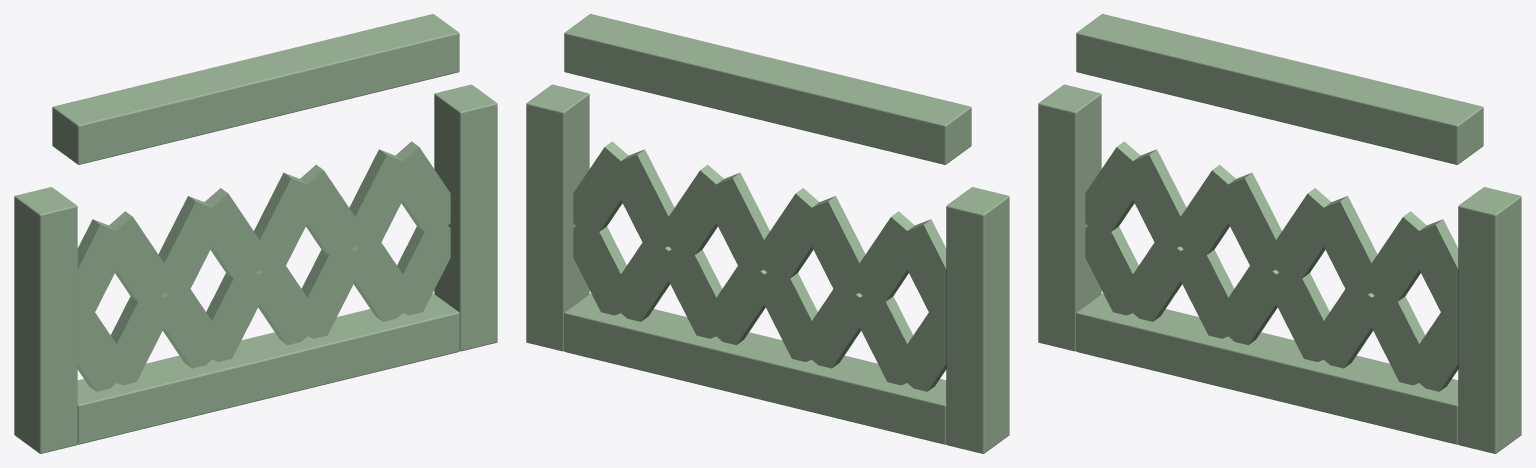
The model's file is source-edit.glb.
3 views of the same model, side by side, from view 1: azimuth 30°, elevation 25°; view 2: azimuth 150°, elevation 25°; view 3: azimuth 330°, elevation 25° (orthographic).
Visible parts, largest first — view 1: VENT_FrameTop, VENT_FrameBottom, VENT_FrameSide, VENT_FrameSide.001, VENT_Diamond_3_0, VENT_Diamond_1_0, VENT_Diamond_2_1, VENT_Diamond_0_2, VENT_Diamond_2_2, VENT_Diamond_3_2, VENT_Diamond_0_0, VENT_Diamond_2_3 (+8 smaller); view 2: VENT_FrameTop, VENT_FrameBottom, VENT_FrameSide, VENT_FrameSide.001, VENT_Diamond_2_0, VENT_Diamond_1_0, VENT_Diamond_1_2, VENT_Diamond_3_2, VENT_Diamond_0_1, VENT_Diamond_3_1, VENT_Diamond_0_2, VENT_Diamond_2_2 (+8 smaller); view 3: VENT_FrameTop, VENT_FrameBottom, VENT_FrameSide.001, VENT_FrameSide, VENT_Diamond_3_0, VENT_Diamond_2_1, VENT_Diamond_0_0, VENT_Diamond_0_1, VENT_Diamond_1_2, VENT_Diamond_0_3, VENT_Diamond_3_3, VENT_Diamond_1_0 (+8 smaller).
Part boxes in pixels (x1,y1,x2,y2): VENT_FrameTop: (52, 14, 459, 164); VENT_FrameBottom: (77, 293, 459, 444); VENT_FrameSide: (14, 187, 77, 453); VENT_FrameSide.001: (434, 84, 497, 351); VENT_Diamond_3_0: (343, 149, 418, 253); VENT_Diamond_1_0: (154, 196, 228, 300); VENT_Diamond_2_1: (291, 164, 367, 263); VENT_Diamond_0_2: (100, 296, 176, 385); VENT_Diamond_2_2: (291, 247, 367, 338); VENT_Diamond_3_2: (387, 226, 450, 315); VENT_Diamond_0_0: (77, 219, 132, 323); VENT_Diamond_2_3: (257, 257, 323, 345); VENT_FrameTop: (564, 14, 971, 164); VENT_FrameBottom: (564, 293, 946, 444); VENT_FrameSide: (946, 187, 1009, 453); VENT_FrameSide.001: (526, 84, 589, 351); VENT_Diamond_2_0: (700, 172, 776, 270); VENT_Diamond_1_0: (796, 196, 871, 294); VENT_Diamond_1_2: (753, 267, 827, 361); VENT_Diamond_3_2: (573, 221, 636, 315); VENT_Diamond_0_1: (847, 211, 923, 310); VENT_Diamond_3_1: (573, 141, 636, 240); VENT_Diamond_0_2: (847, 296, 923, 385); VENT_Diamond_2_2: (657, 249, 732, 338); VENT_FrameTop: (1076, 14, 1483, 164); VENT_FrameBottom: (1076, 293, 1458, 444); VENT_FrameSide.001: (1458, 187, 1521, 453); VENT_FrameSide: (1038, 84, 1101, 351); VENT_Diamond_3_0: (1359, 211, 1435, 309); VENT_Diamond_2_1: (1308, 196, 1382, 294); VENT_Diamond_0_0: (1085, 141, 1148, 240); VENT_Diamond_0_1: (1133, 149, 1192, 253); VENT_Diamond_1_2: (1215, 257, 1288, 345); VENT_Diamond_0_3: (1085, 222, 1148, 315); VENT_Diamond_3_3: (1371, 290, 1435, 385); VENT_Diamond_1_0: (1181, 164, 1244, 263).
Size of the model in its own units: 1.2 by 0.8 by 0.12.
